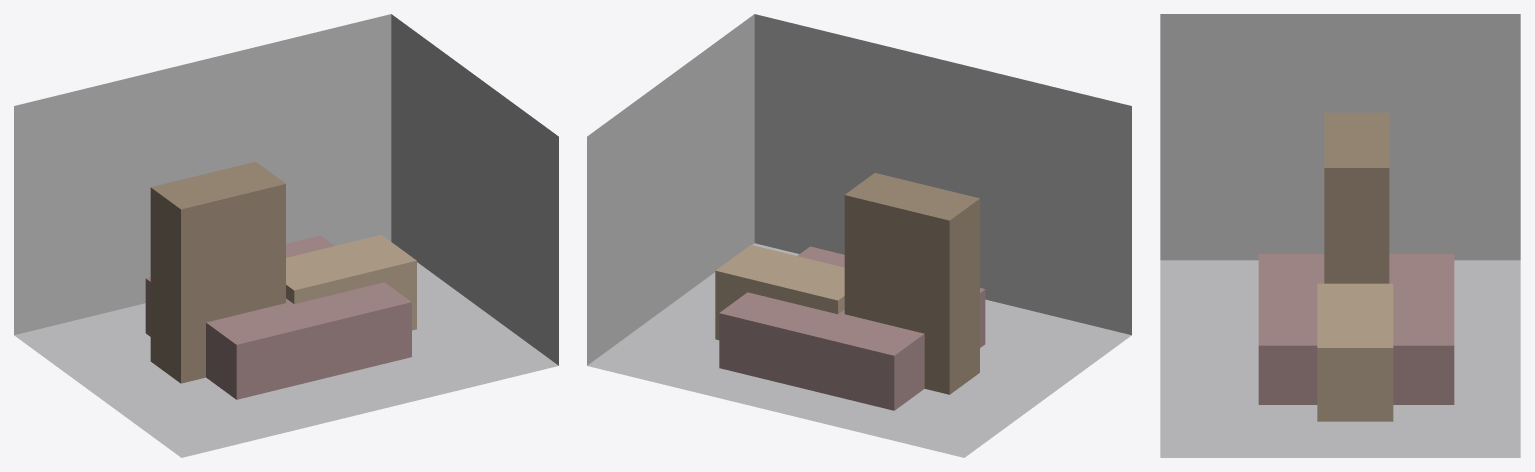
File: current_layout.glb
The picture shows the model from 3 angles, left to right: view 1: azimuth 30°, elevation 25°; view 2: azimuth 150°, elevation 25°; view 3: azimuth 270°, elevation 25°; orthographic projection. The views are drawn at different scales.
Visible parts, largest first — view 1: room, wardrobe, bed, desk; view 2: room, wardrobe, bed, desk; view 3: room, bed, wardrobe, desk.
Part boxes in pixels (left/top/right/bottom): room: left=14, top=14, right=558, bottom=457; wardrobe: left=150, top=161, right=285, bottom=383; bed: left=145, top=235, right=411, bottom=399; desk: left=286, top=234, right=416, bottom=330; room: left=587, top=14, right=1131, bottom=457; wardrobe: left=844, top=173, right=979, bottom=394; bed: left=719, top=246, right=985, bottom=410; desk: left=715, top=245, right=844, bottom=340; room: left=1160, top=14, right=1520, bottom=457; bed: left=1258, top=254, right=1454, bottom=404; wardrobe: left=1324, top=112, right=1389, bottom=283; desk: left=1317, top=283, right=1393, bottom=421.
Size of the model in its own units: 4.31 by 2.5 by 3.31.
